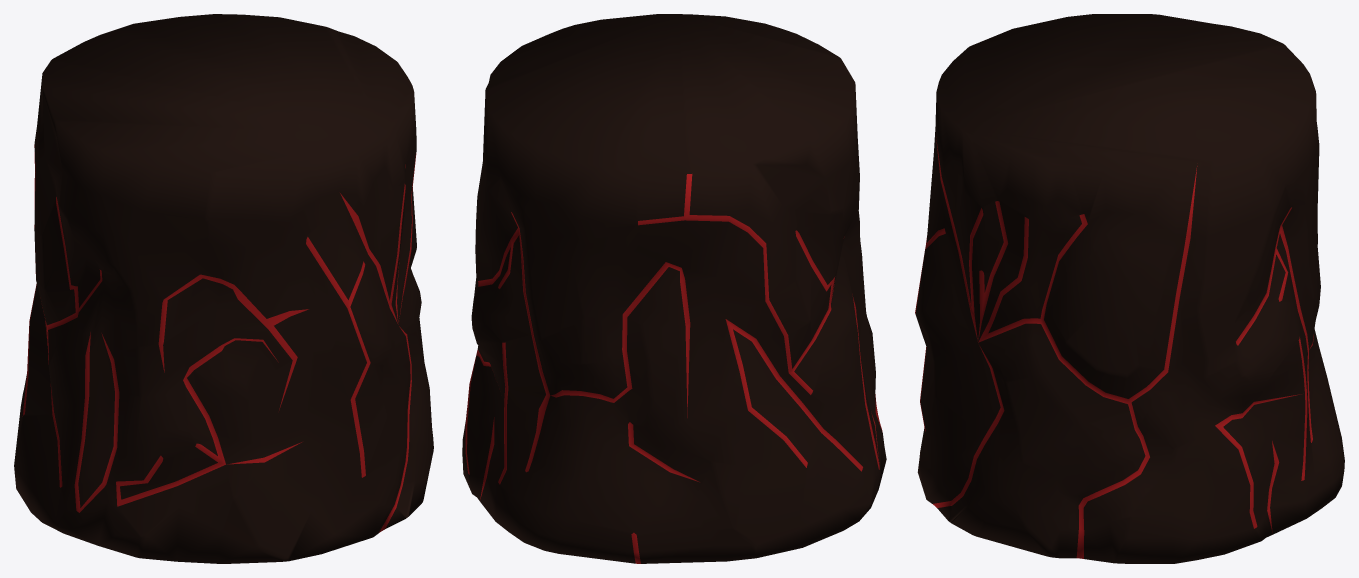
The model's file is Hell_6_1.fbx.
The picture shows the model from 3 angles, left to right: view 1: azimuth 30°, elevation 25°; view 2: azimuth 150°, elevation 25°; view 3: azimuth 270°, elevation 25°; orthographic projection.
Visible parts, largest first — view 1: Rock_6_1; view 2: Rock_6_1; view 3: Rock_6_1.
Part boxes in pixels (<box>): Rock_6_1: <box>14,14,433,563</box>; Rock_6_1: <box>462,14,886,563</box>; Rock_6_1: <box>915,14,1344,563</box>.
Bounding box in the file's own units: 1505 × 1499 × 1515.
